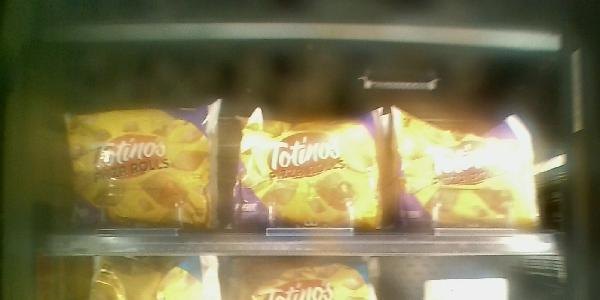icecream: (49, 101, 226, 245), (393, 105, 550, 238), (234, 105, 392, 237)
